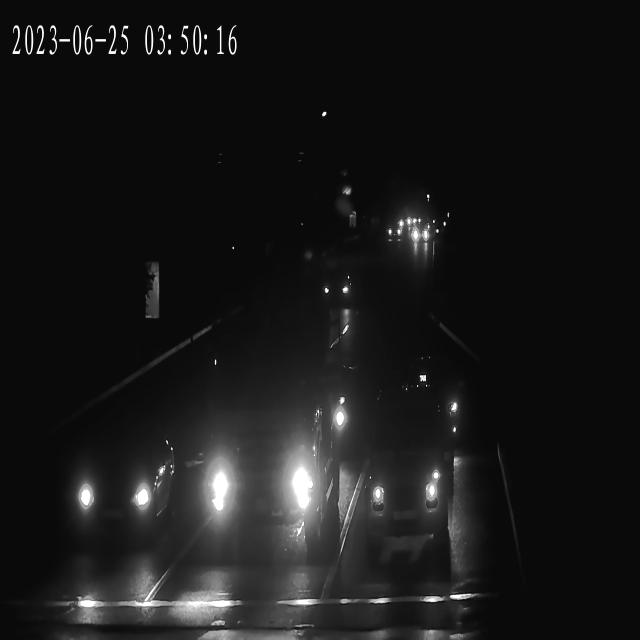Car: (187, 406, 327, 528), (58, 432, 178, 544), (363, 446, 452, 534), (301, 360, 371, 440), (405, 359, 459, 448), (316, 270, 354, 307), (409, 229, 431, 246), (383, 223, 402, 241), (394, 215, 412, 228), (401, 215, 419, 228)
